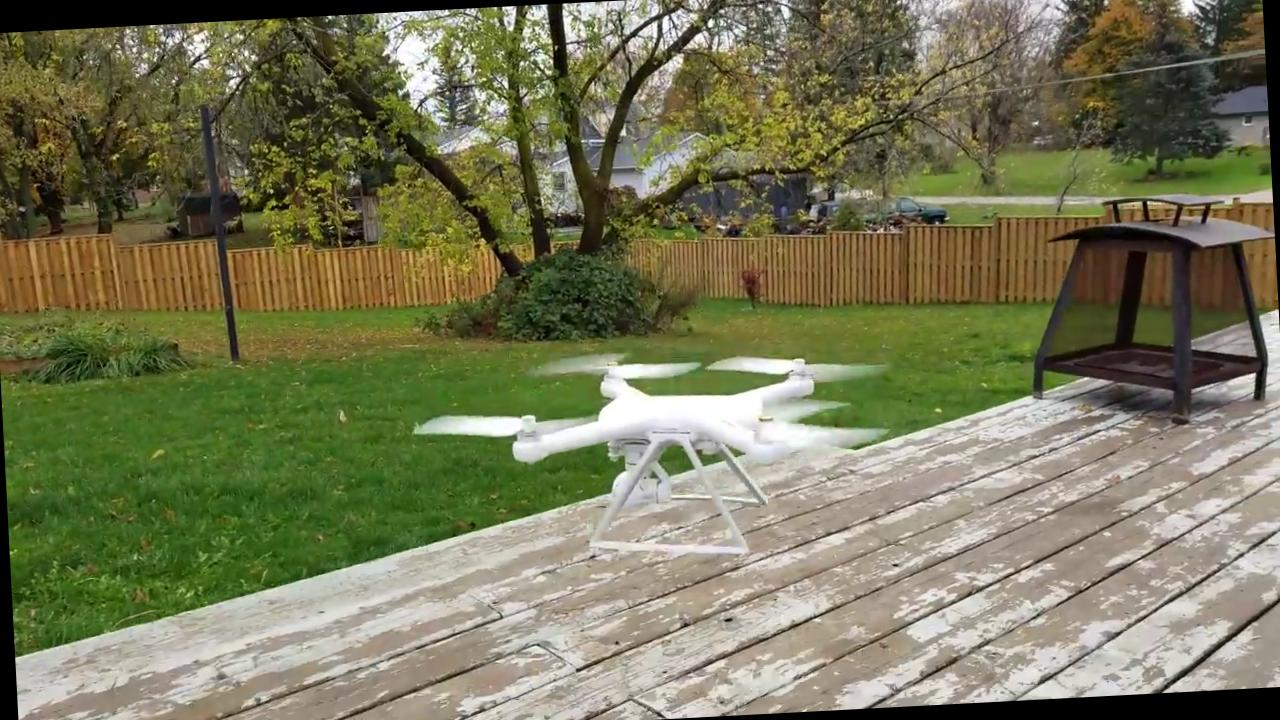drone: (399, 320, 925, 522)
